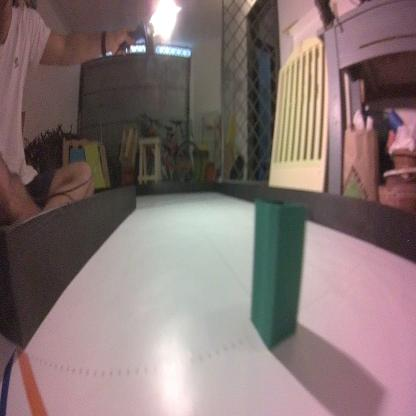green: (247, 195, 310, 355)
